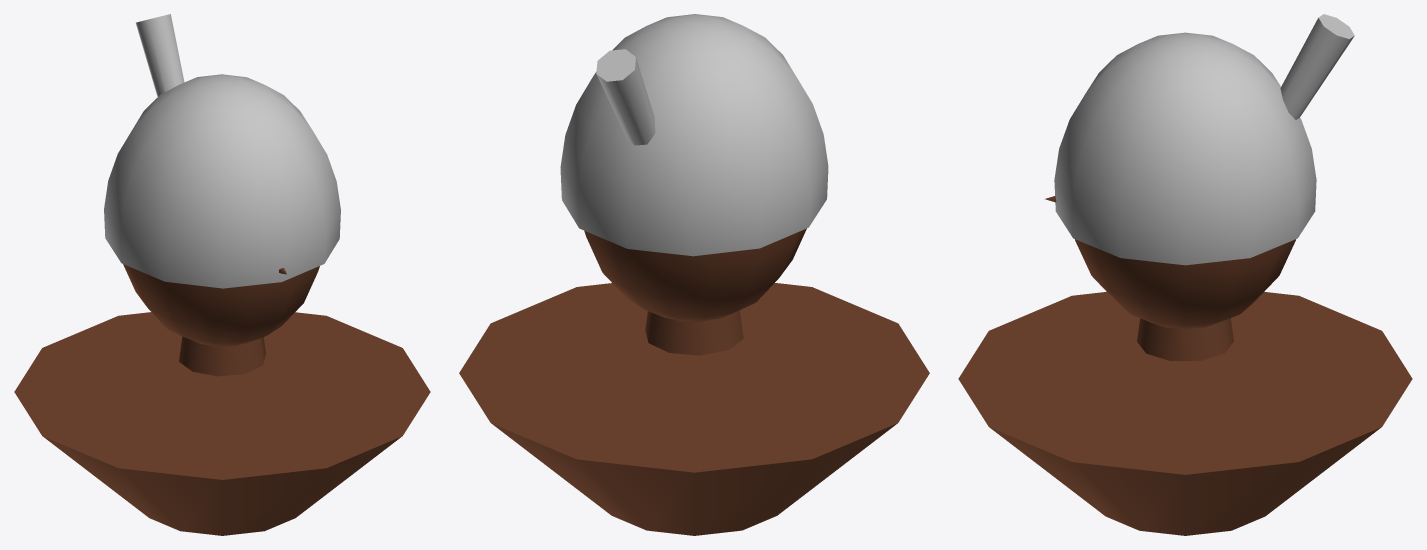
File: raw_002.glb
3 views of the same model, side by side, from view 1: azimuth 30°, elevation 25°; view 2: azimuth 150°, elevation 25°; view 3: azimuth 270°, elevation 25° (orthographic). The views are drawn at different scales.
Size of the model in its own units: 1.97 by 2.29 by 1.97.
